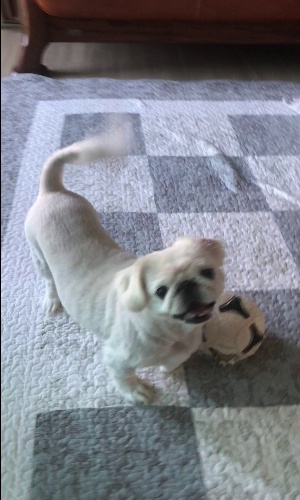ddubi: (26, 109, 227, 405)
